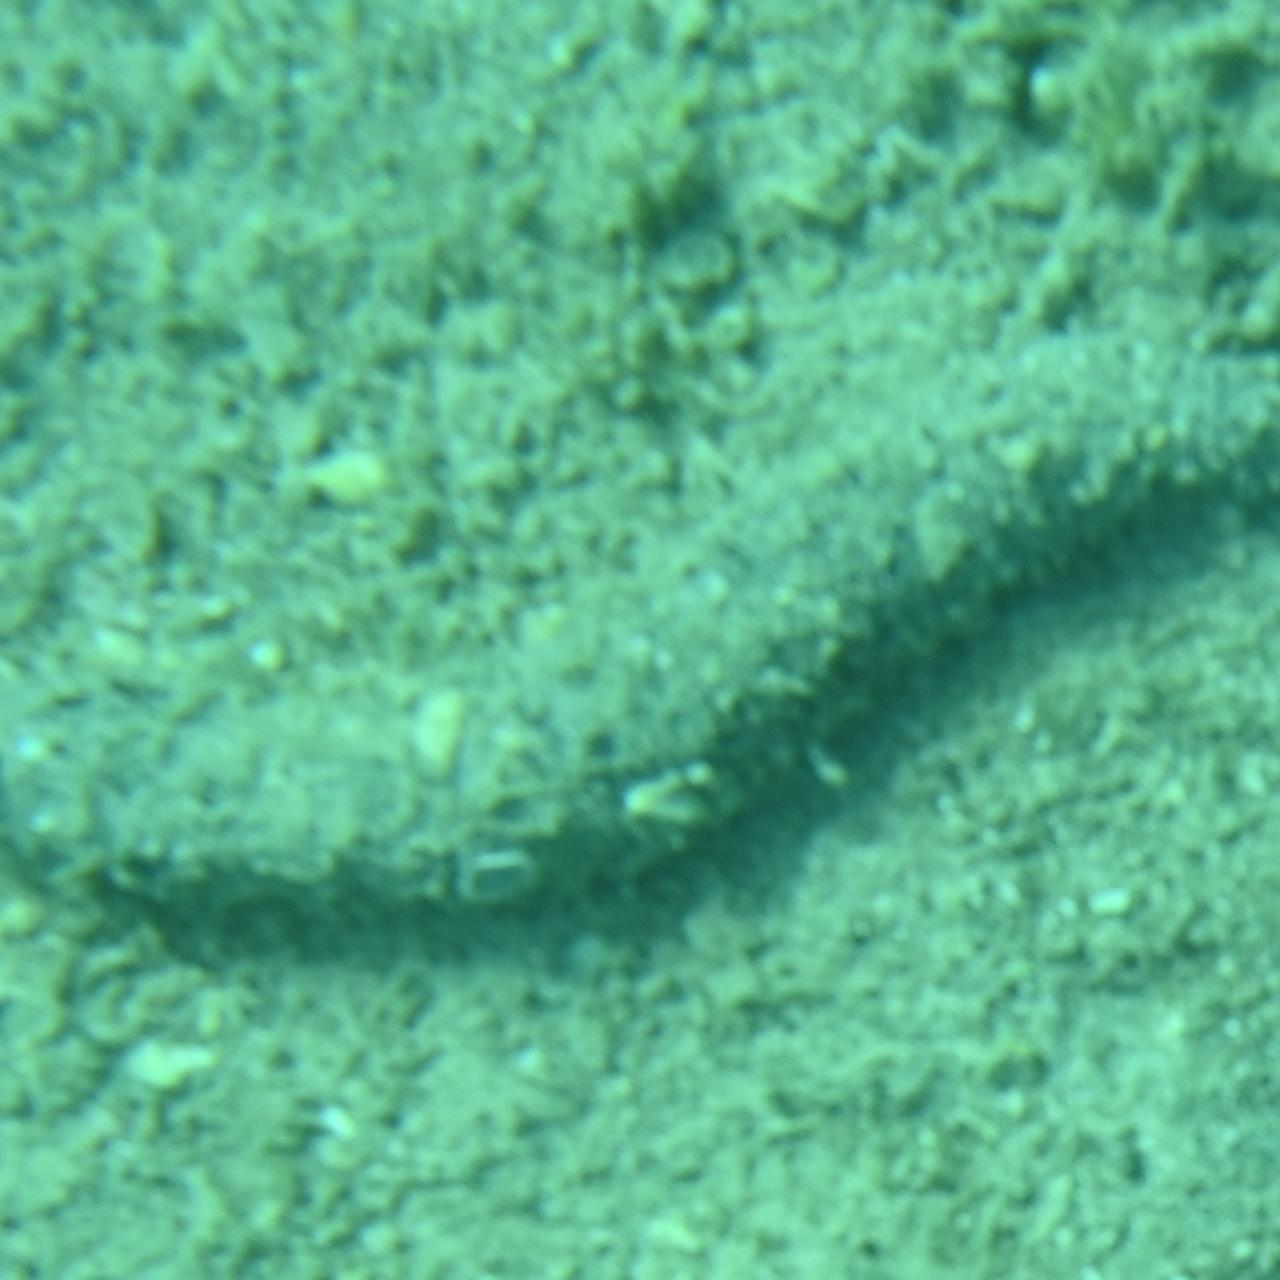Holothuria tubulosa: (0, 326, 1280, 954)
